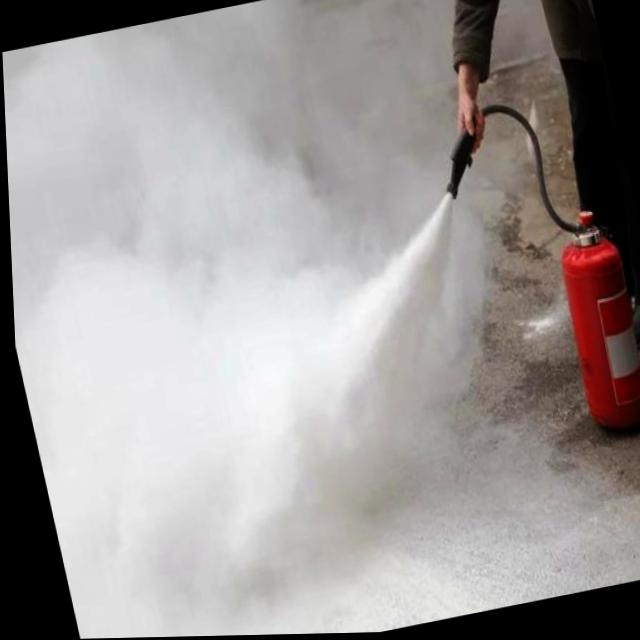FireExtinguisher: (421, 81, 640, 469)
